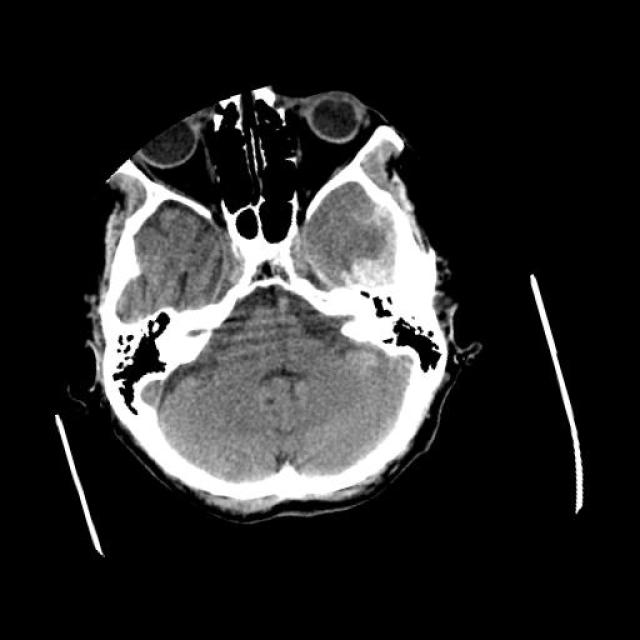Subdural: (322, 194, 422, 304)
